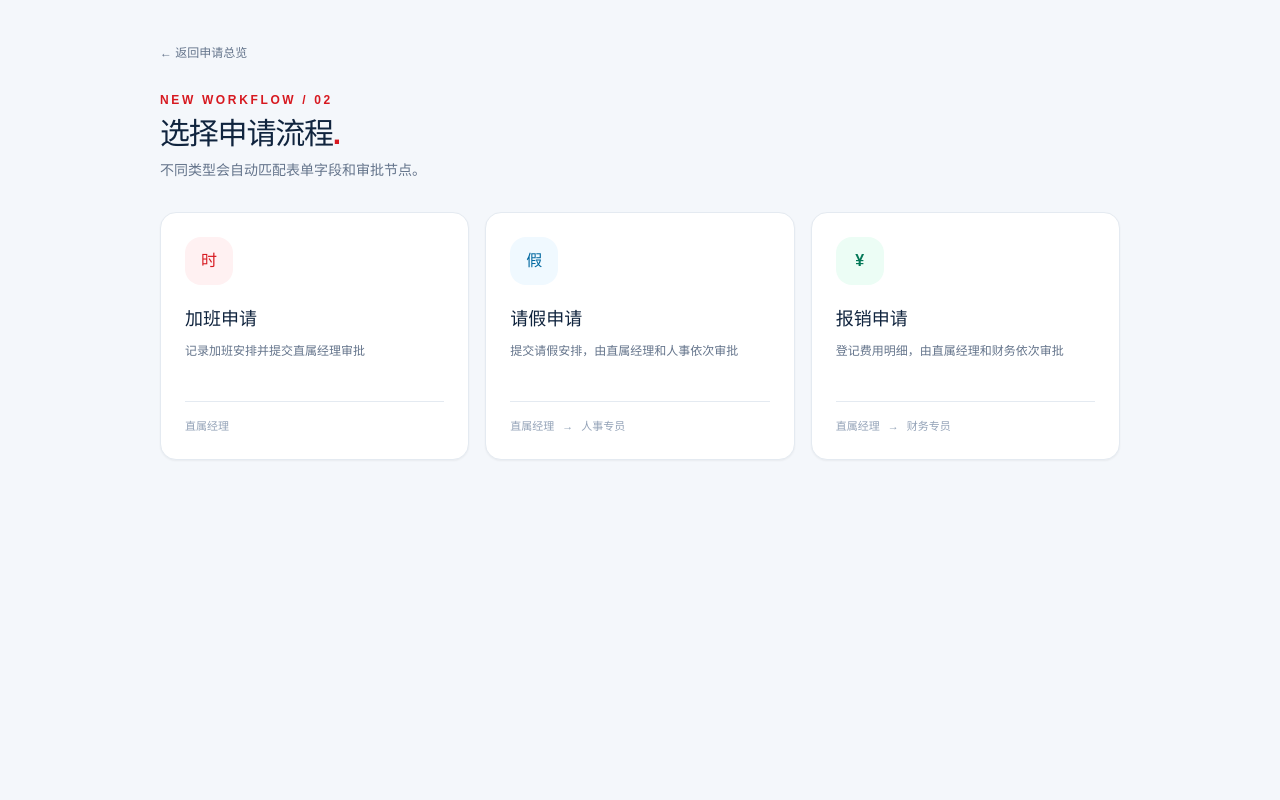
it: new application page › saves a typed draft in the shared application store
Click the button "假 请假申请 提交请假安排，由直属经理和人事依次审批 直属经理 → 人事专员": (534, 261) [485, 212, 795, 460]
(page scrolled)
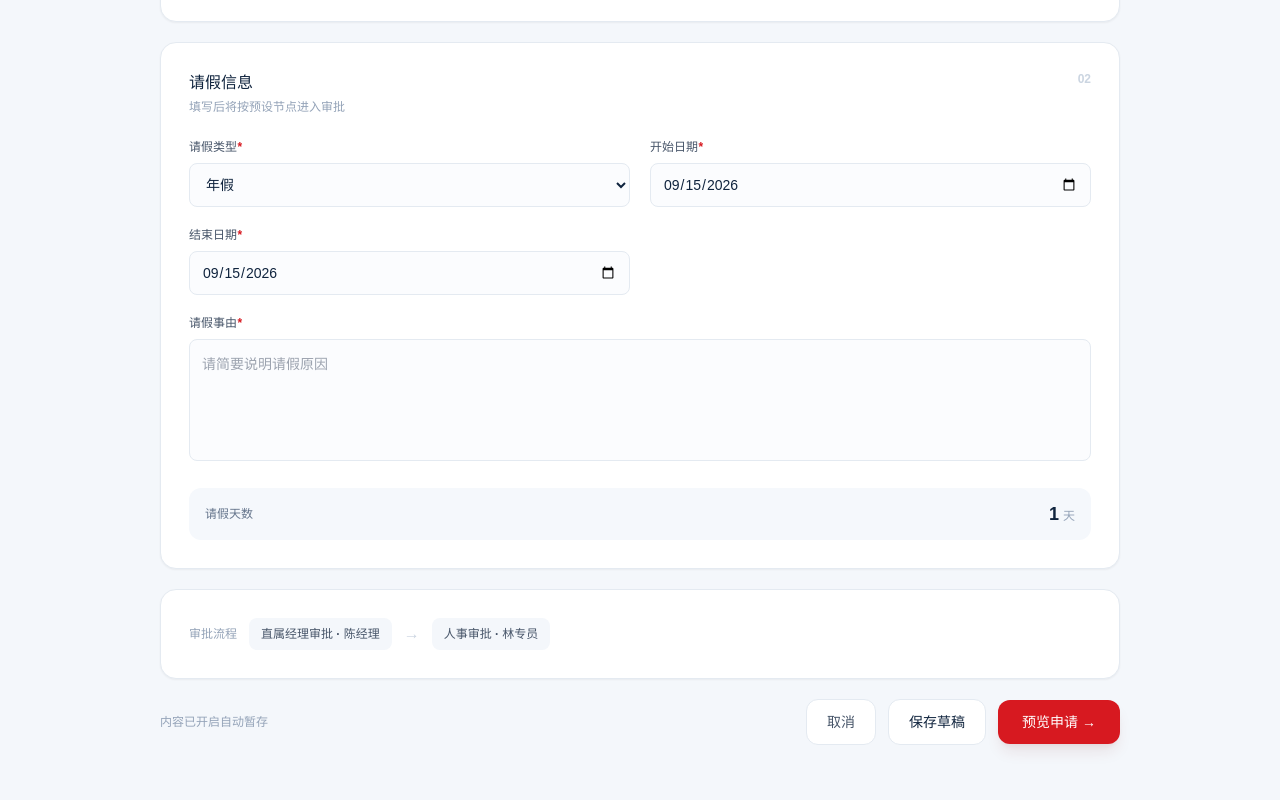
In the text box labelled "请假事由*": (640, 400) [189, 339, 1091, 461], type "家庭安排"
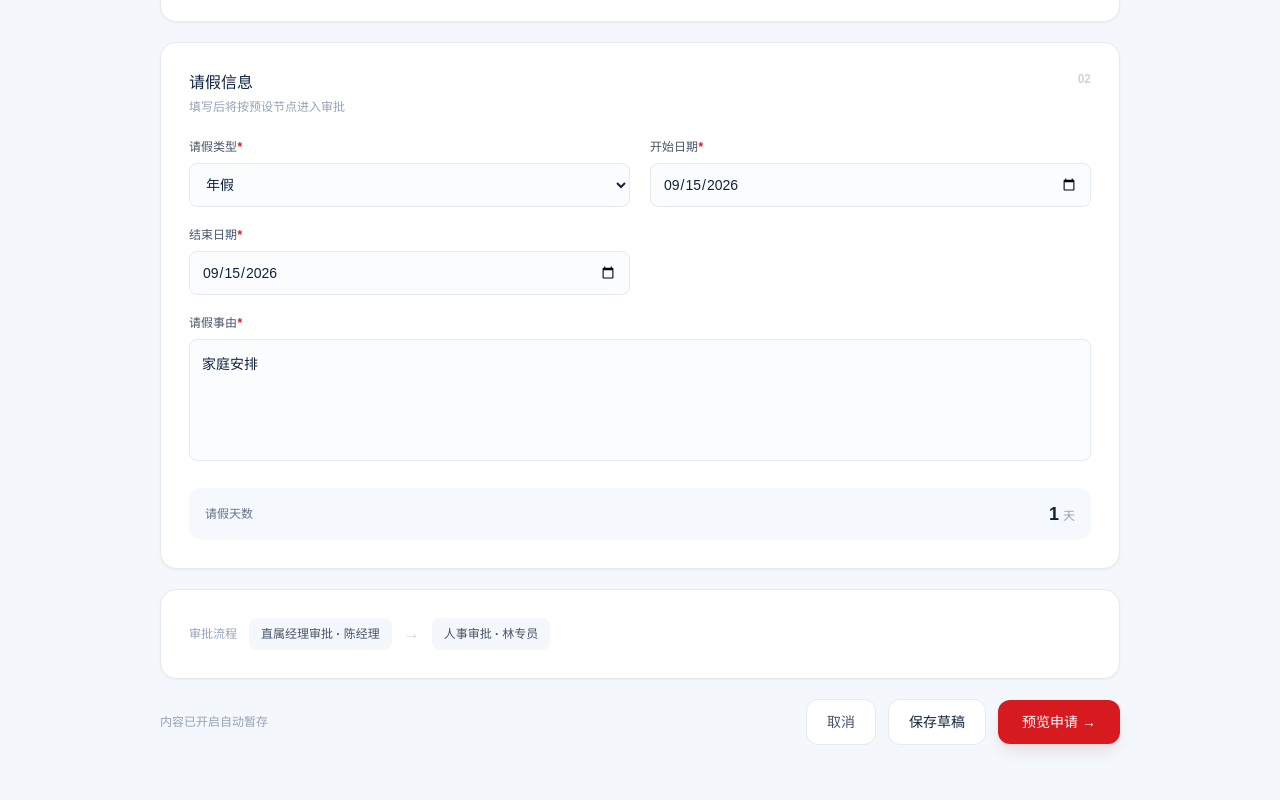
Click the button "保存草稿": (937, 722) [888, 699, 986, 745]
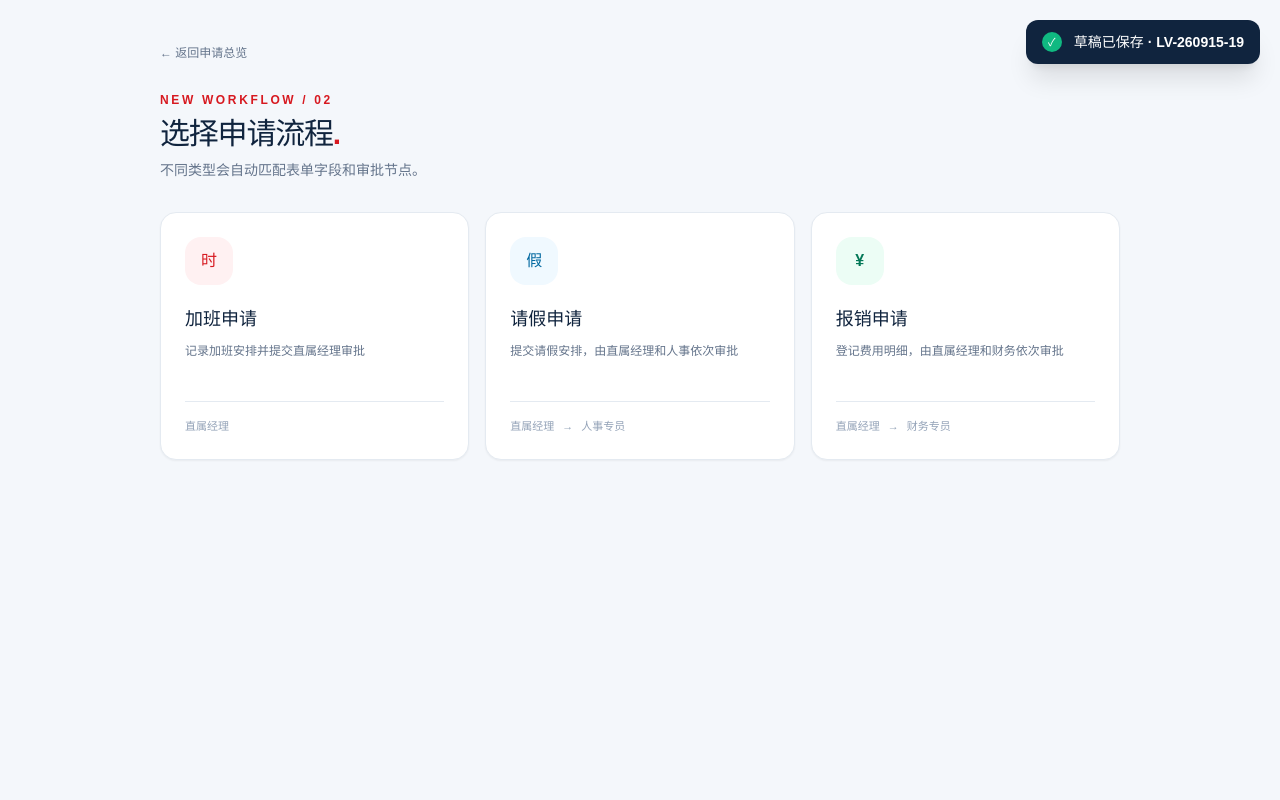
Now the message shows "草稿已保存", box [1074, 34, 1244, 50]
Now the heading "选择申请流程." is shown, box [160, 117, 340, 150]
Now the field labelled "请假事由" is gone
